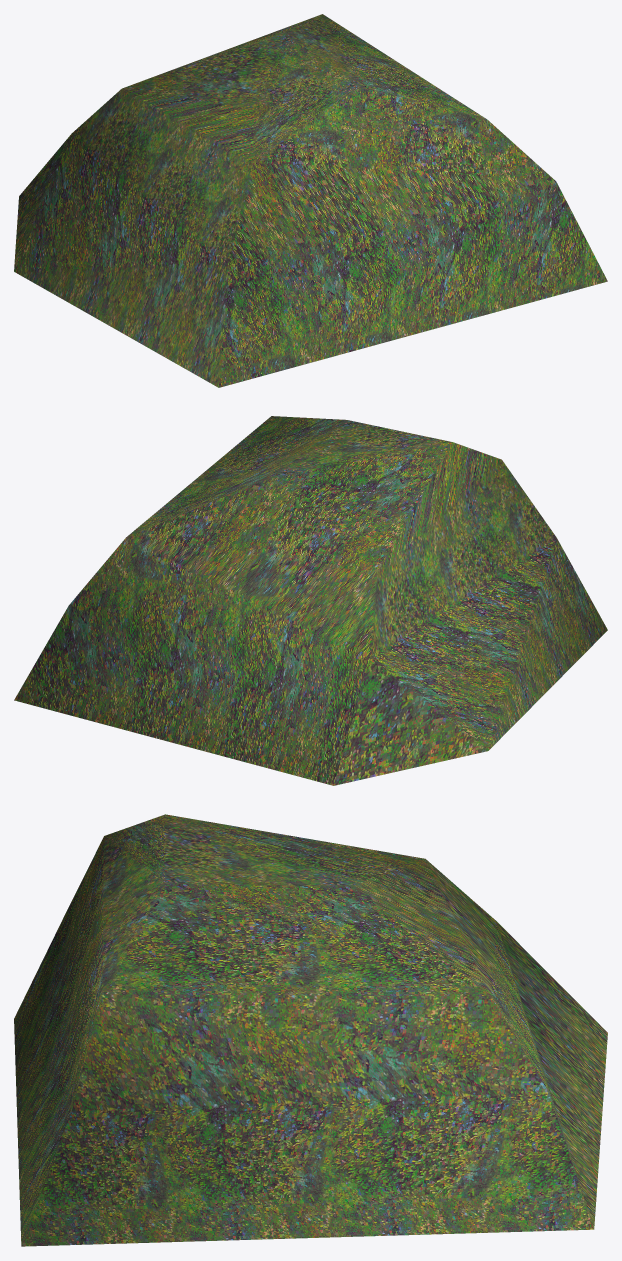
Rendered from rock_mossy_big_a1_l3.fbx.
3 views of the same model, one above another, from view 1: azimuth 30°, elevation 25°; view 2: azimuth 150°, elevation 25°; view 3: azimuth 270°, elevation 25° (orthographic). The views are drawn at different scales.
Parts seen in each view (by area): view 1: mesh_node; view 2: mesh_node; view 3: mesh_node.
Part boxes in pixels (x1=…): mesh_node: x1=14, y1=14, x2=607, y2=387; mesh_node: x1=14, y1=416, x2=607, y2=785; mesh_node: x1=14, y1=814, x2=607, y2=1246.
Bounding box in the file's own units: 6.67 × 3.1 × 6.35.
